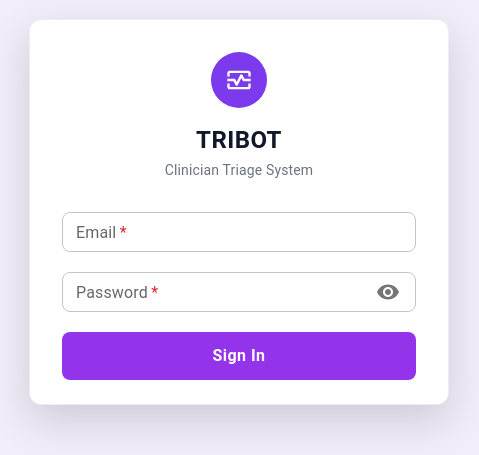
Test: LoginPage › shows validation messages when required fields are empty
The width and height of the screenshot is (479, 455).
What coordinates should you click on to do the following:
click the button "Sign In"
I would click on:
 (239, 356)
Its box is [62,332,416,380].
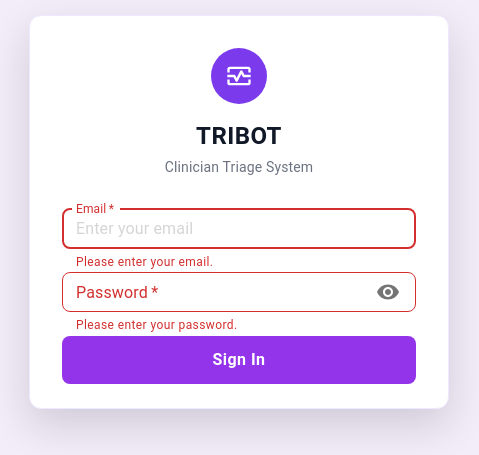
Now the text "Please enter your email." is shown, box [76,254,213,268]
Now the text "Please enter your password." is shown, box [76,318,238,332]
